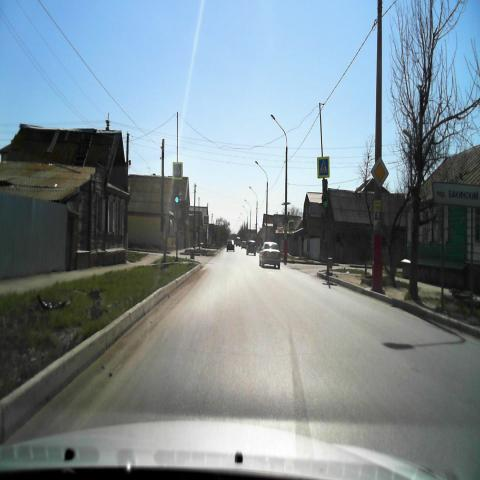2_1: (371, 158, 389, 190)
5_19_1: (316, 157, 330, 178), (173, 162, 183, 180), (287, 220, 294, 232), (204, 215, 210, 225)
